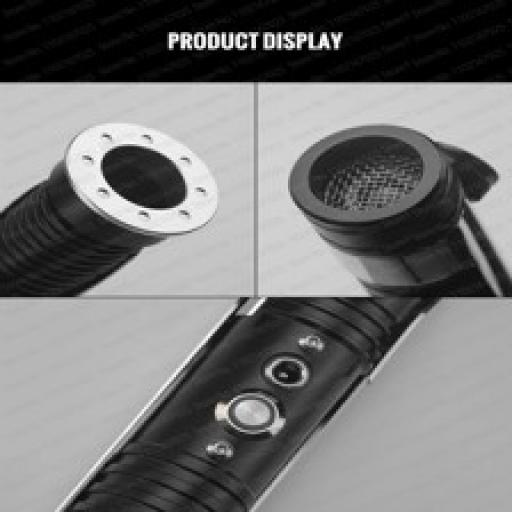lightsaber: (48, 299, 443, 512), (1, 122, 228, 296), (289, 125, 512, 299)
